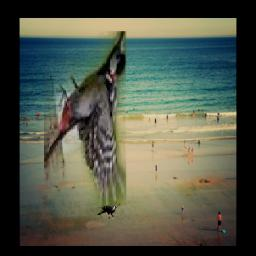Woodpecker: (45, 31, 127, 206), (98, 202, 121, 220)
